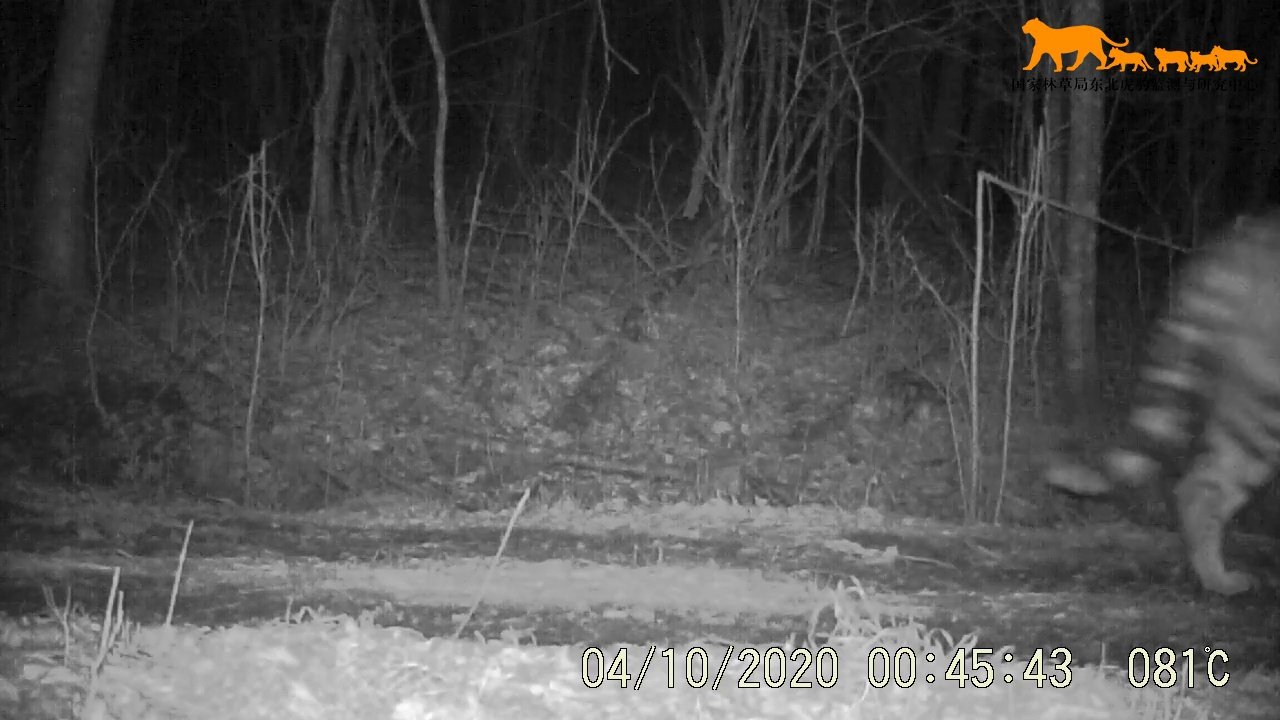Tiger: (1032, 105, 1280, 616)
